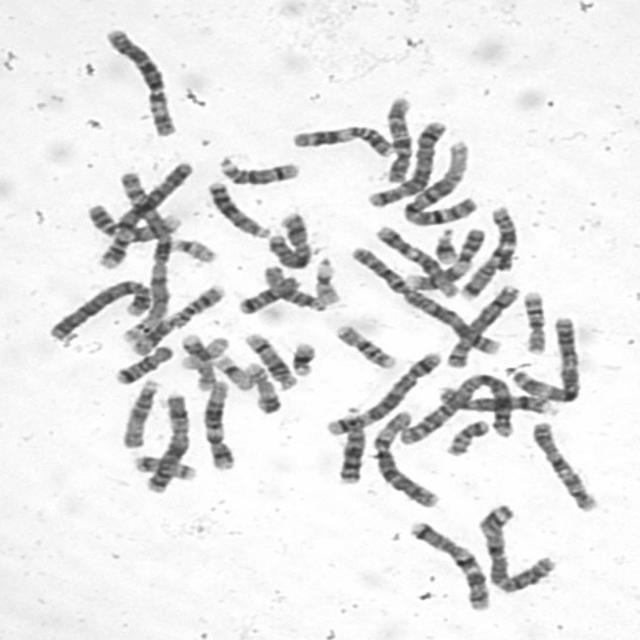A1: (112, 165, 175, 342), (398, 134, 479, 228)
A2: (346, 242, 504, 358), (394, 368, 524, 447)
A3: (474, 499, 560, 595), (507, 312, 585, 404)
B4: (91, 157, 195, 271), (45, 276, 153, 342)
B5: (320, 346, 446, 438), (363, 116, 449, 209)
C10: (526, 417, 601, 513), (380, 91, 416, 185)
C11: (124, 281, 228, 357), (288, 120, 398, 158)
C12: (374, 221, 464, 299), (200, 376, 238, 472)
C6: (99, 22, 180, 138), (368, 404, 444, 509)
C7: (404, 517, 494, 612), (456, 202, 520, 301)
C8: (440, 280, 521, 369), (432, 381, 556, 416)
C9: (402, 224, 488, 292), (80, 198, 186, 242)
D13: (203, 176, 273, 240), (328, 406, 368, 485)
D14: (240, 328, 299, 391), (214, 152, 304, 187)
D15: (116, 373, 162, 450), (260, 262, 329, 312)
E16: (330, 320, 399, 370), (518, 286, 550, 355)
E17: (175, 329, 218, 393), (240, 358, 283, 415)
E18: (111, 341, 176, 386), (235, 272, 302, 315)
F19: (176, 333, 232, 371), (211, 350, 257, 391)
F20: (442, 414, 493, 457), (129, 452, 198, 482)
G21: (287, 337, 320, 377), (429, 224, 461, 264)
G22: (310, 254, 343, 306), (166, 234, 220, 264)
X: (140, 388, 192, 494), (264, 206, 314, 270)
